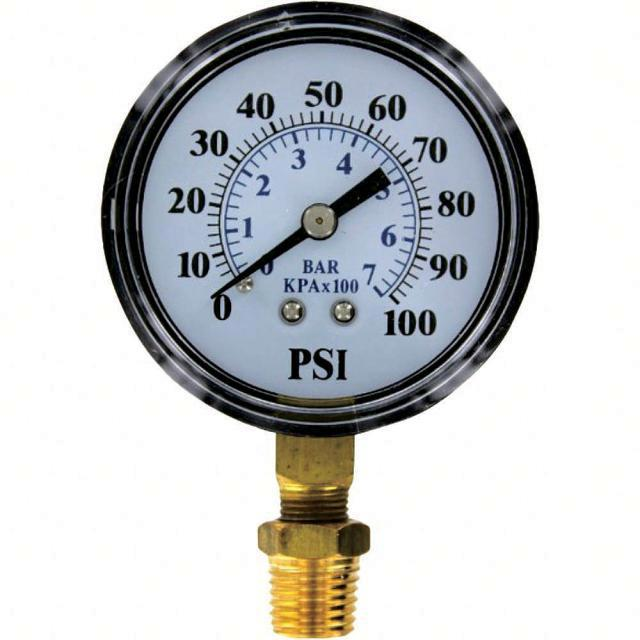Needle_Tip: (187, 270, 244, 312)
Needle_base: (289, 192, 354, 256)
max_value: (361, 283, 455, 356)
min_value: (204, 283, 249, 339)
